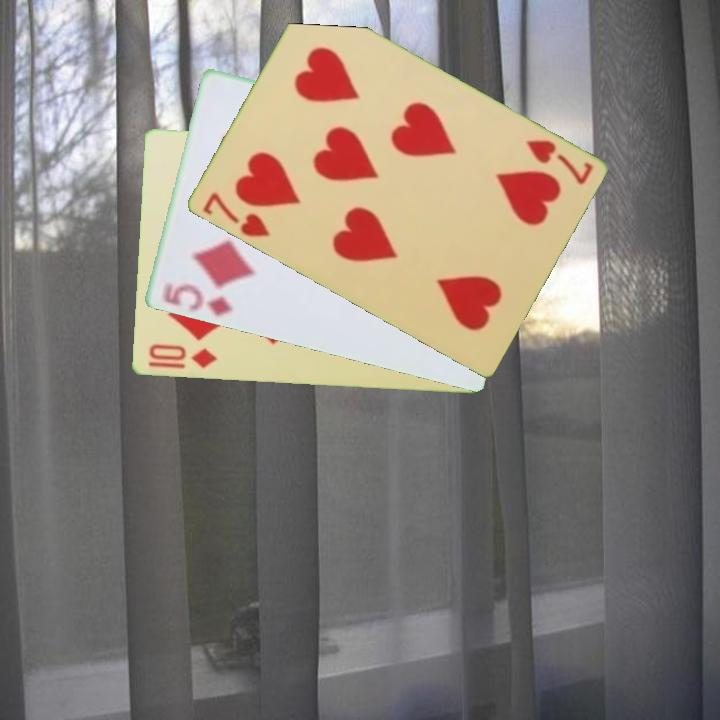10d: (145, 341, 219, 372)
5d: (157, 279, 235, 319)
7h: (198, 189, 273, 241), (521, 136, 596, 188)
